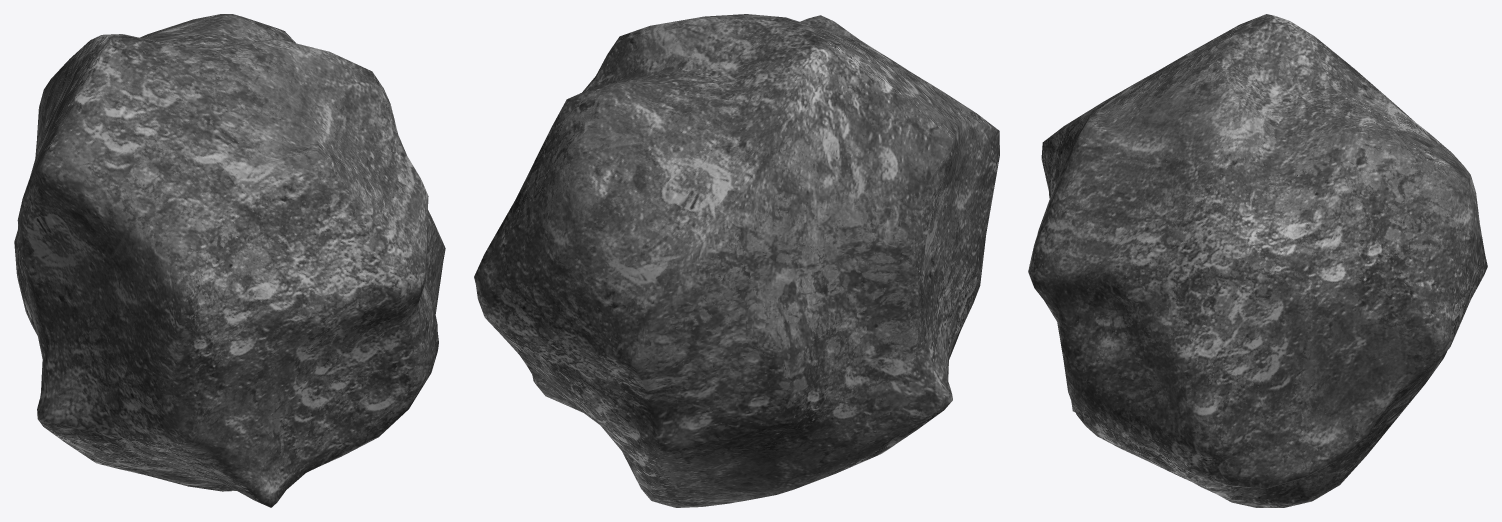
The model's file is Asteroid_2.glb.
3 views of the same model, side by side, from view 1: azimuth 30°, elevation 25°; view 2: azimuth 150°, elevation 25°; view 3: azimuth 270°, elevation 25° (orthographic). The views are drawn at different scales.
Visible parts, largest first — view 1: Aster_Small_2_; view 2: Aster_Small_2_; view 3: Aster_Small_2_.
Part boxes in pixels (box(x1,y1,x2,y2)): Aster_Small_2_: box(14, 14, 445, 507); Aster_Small_2_: box(474, 14, 999, 507); Aster_Small_2_: box(1028, 14, 1487, 507).
Size of the model in its own units: 1.17 by 1.36 by 1.3.
1 material, 1 textured.
